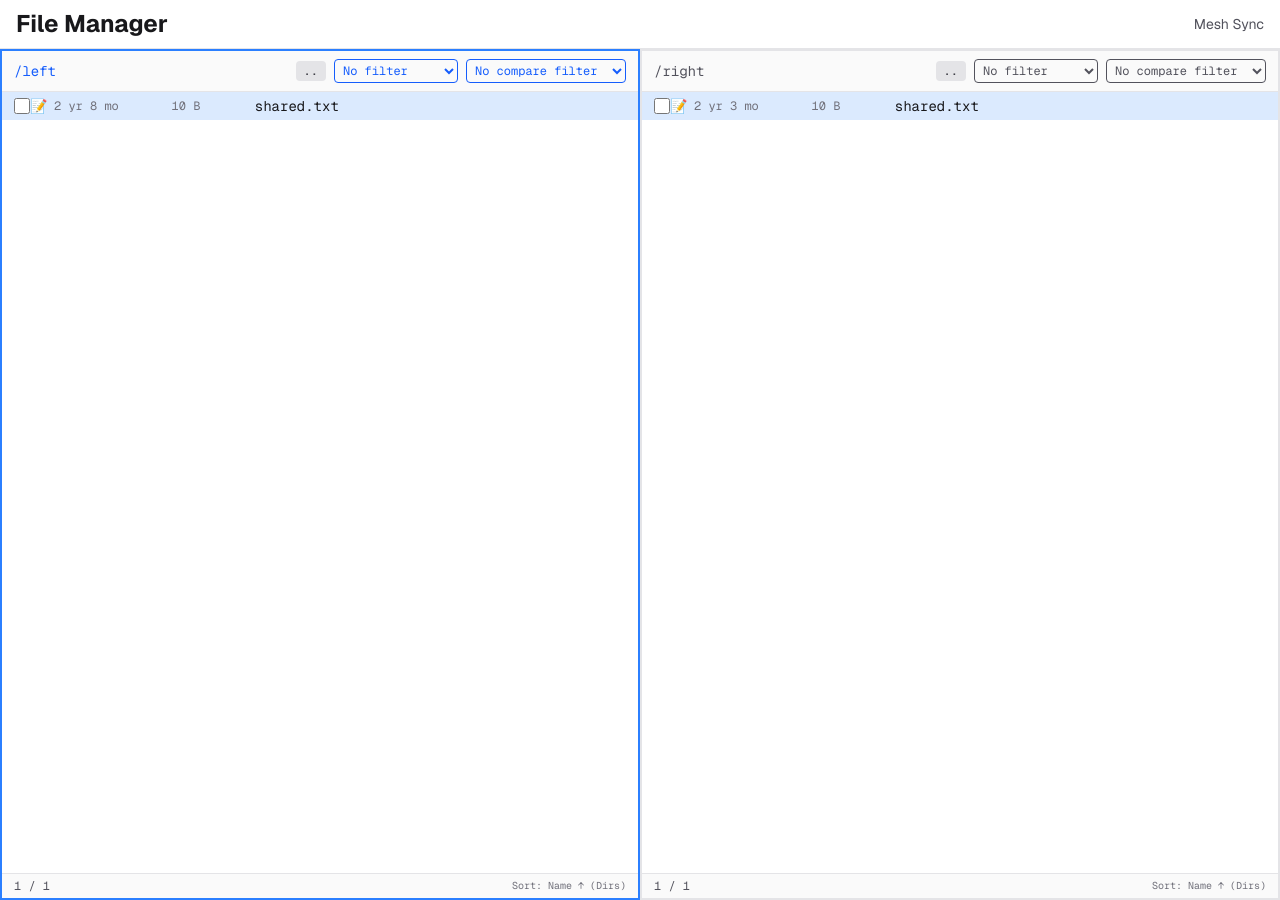
Test: WorkspaceView rename regex [RENAME_REGEX] › posts bulk-rename for this pane only
Expected: the element with test id "pane-0" is shown, 0,49 -> 640,899
Right-click the text "shared.txt": (320, 106) 2,92 -> 638,120
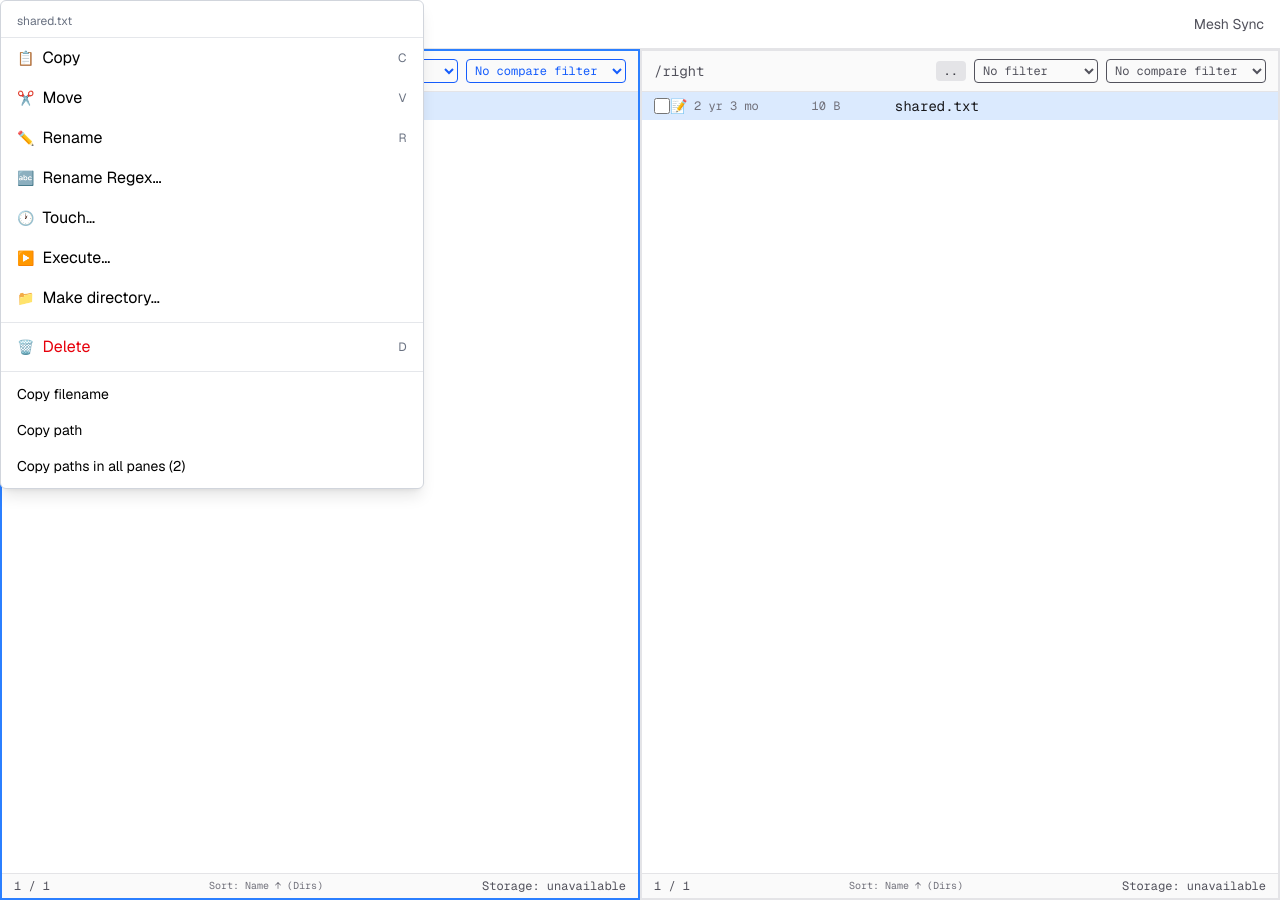
Click the menu item with test id "rename-regex-menu-item": click(102, 178) 1,158 -> 422,198
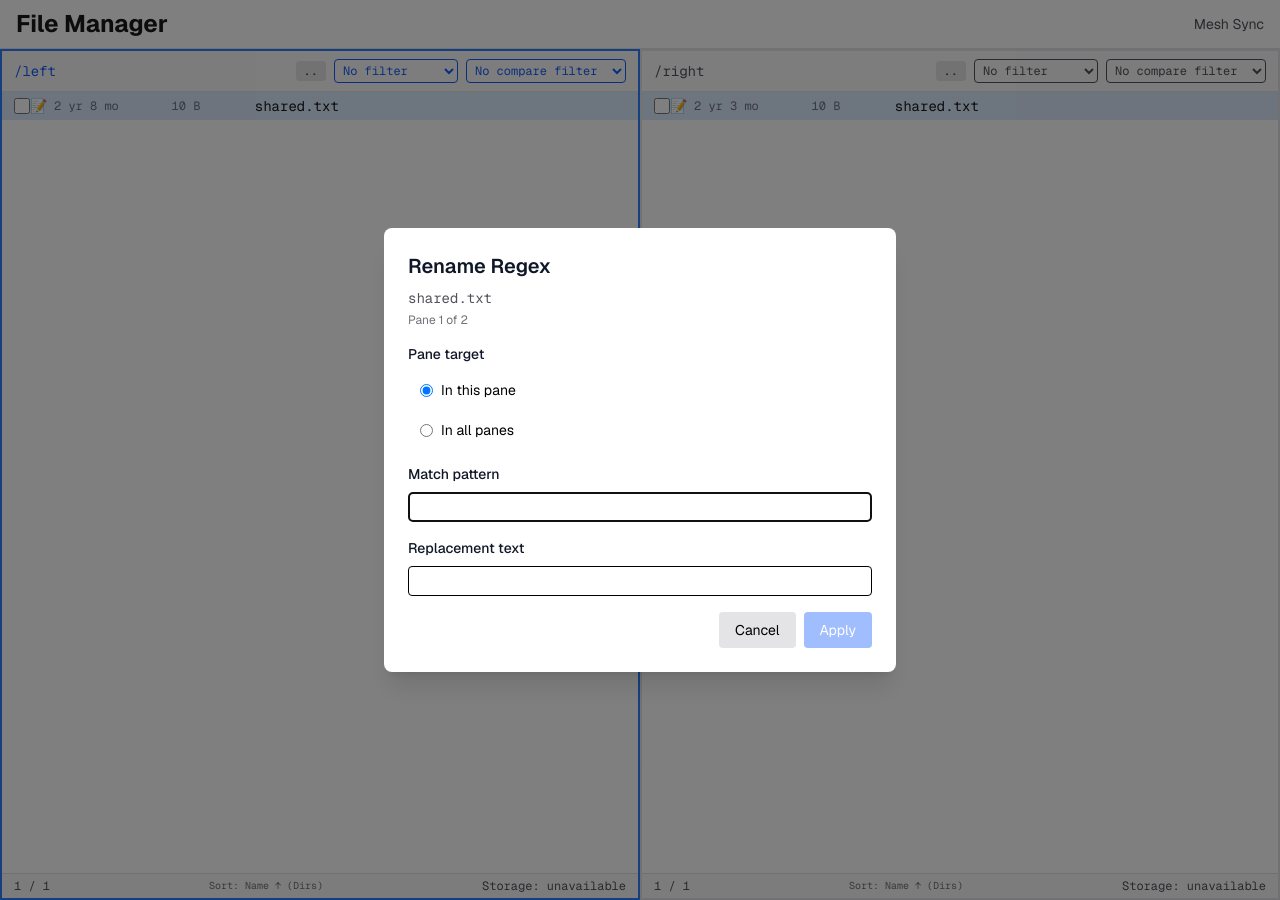
Expected: the dialog with test id "rename-regex-dialog" is shown, 384,228 -> 896,672
In the field with test id "rename-regex-match": (640, 507) 408,492 -> 872,522, type "\\.txt$"
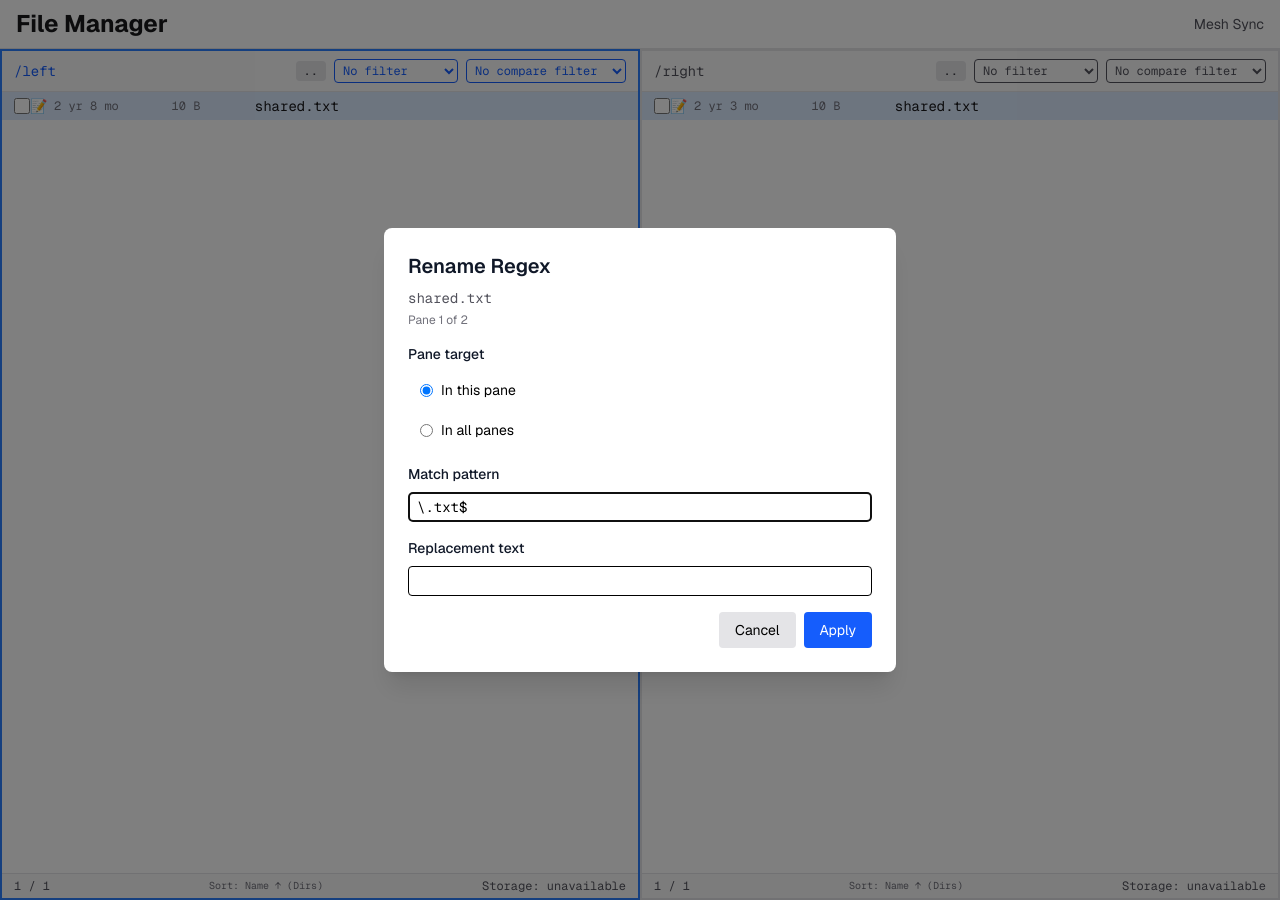
In the field with test id "rename-regex-replacement": (640, 581) 408,566 -> 872,596, type ".bak"
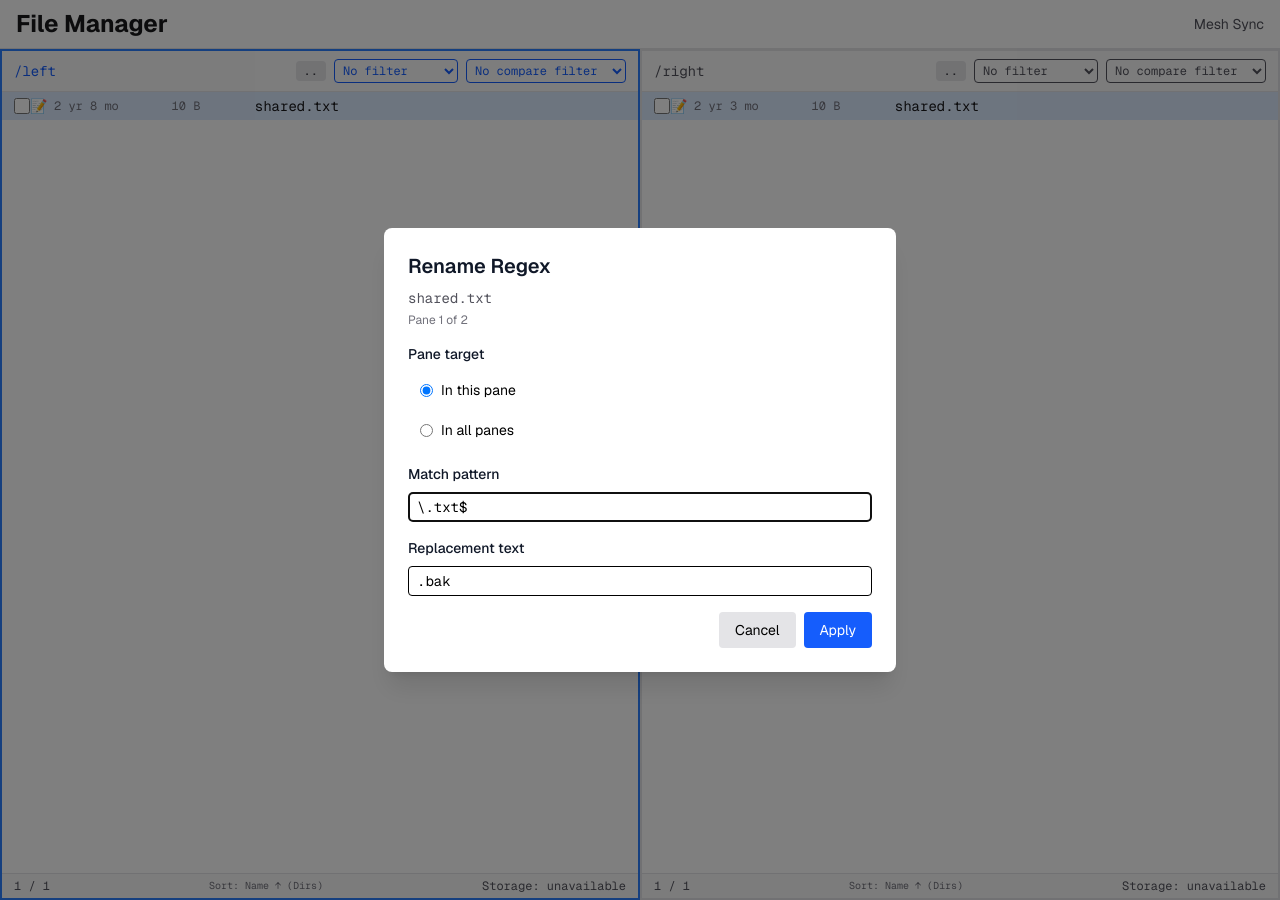
Click the button with test id "rename-regex-apply": click(838, 630) 804,612 -> 872,648
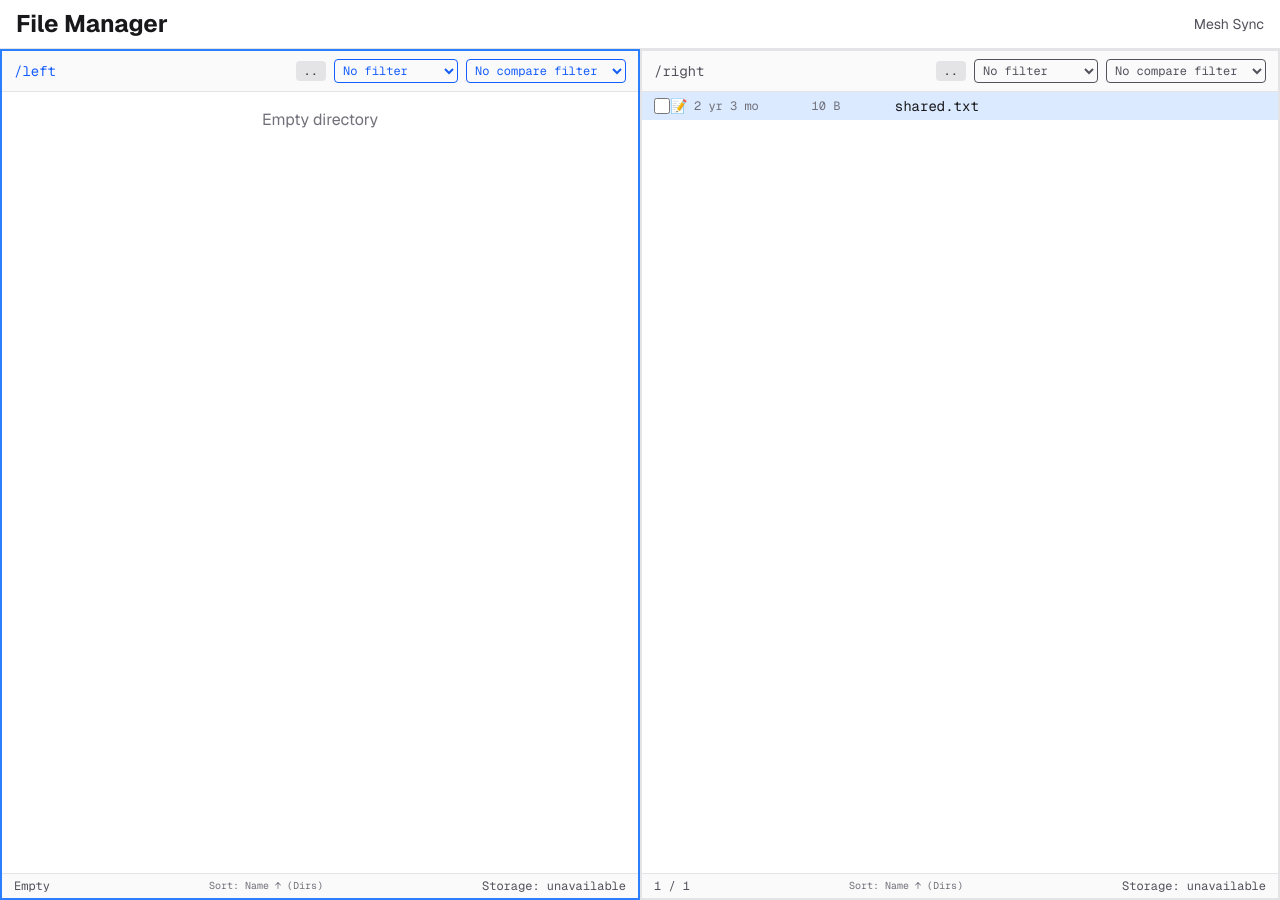
Expected: the dialog with test id "rename-regex-dialog" is gone
